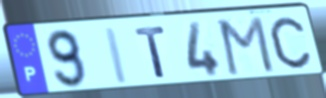4: (185, 19, 223, 79)
9: (44, 27, 90, 91)
C: (268, 15, 314, 71)
I: (102, 25, 131, 86)
M: (217, 14, 277, 78)
T: (133, 24, 168, 80)
